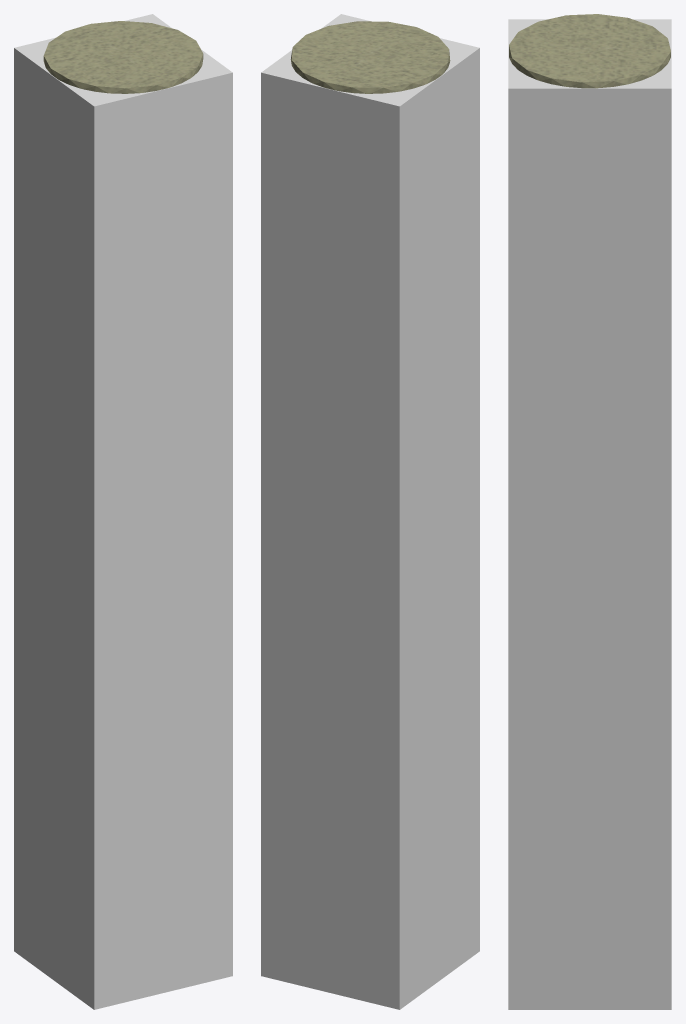
File: Pillar.gltf
The picture shows the model from 3 angles, left to right: view 1: azimuth 30°, elevation 25°; view 2: azimuth 150°, elevation 25°; view 3: azimuth 270°, elevation 25°; orthographic projection.
Visible parts, largest first — view 1: COL, 円柱; view 2: COL, 円柱; view 3: COL, 円柱.
Part boxes in pixels (bbox=[...]): COL: bbox=[14, 14, 232, 1009]; 円柱: bbox=[43, 21, 203, 93]; COL: bbox=[261, 14, 479, 1009]; 円柱: bbox=[290, 21, 450, 93]; COL: bbox=[508, 19, 671, 1009]; 円柱: bbox=[509, 14, 670, 88].
Bounding box in the file's own units: 2 × 12.52 × 2.
Materials: 1 (1 with a texture image).
